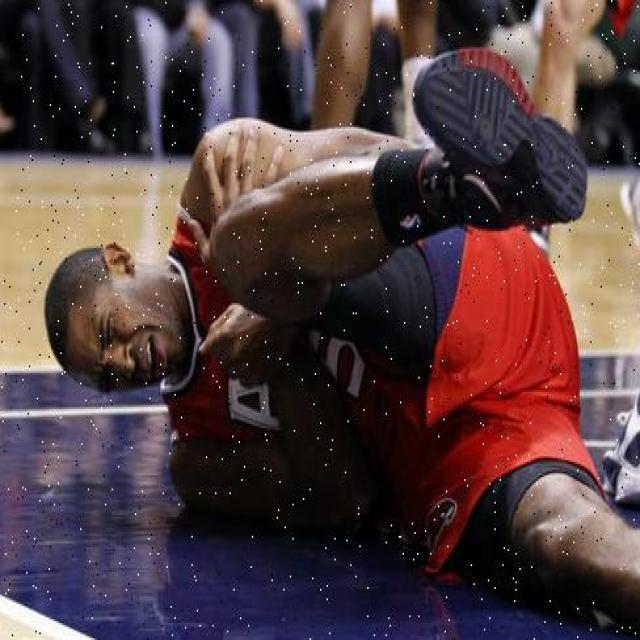fall: (52, 104, 634, 604)
